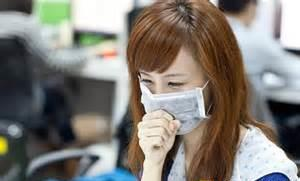OK: (136, 67, 208, 133)
